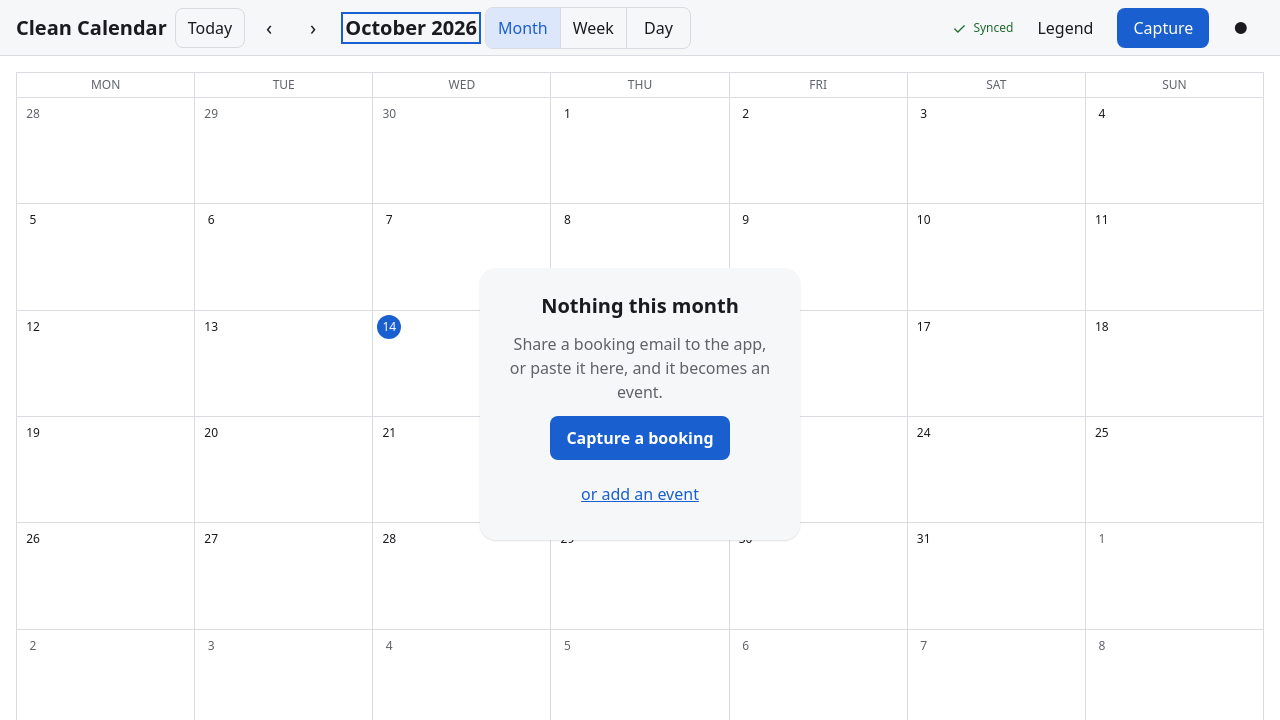
it: app shell top bar (AC-3) › closes the Account menu on Escape and returns focus to its button
Check: the heading "October 2026" is shown, box [345,16,477,40]
Click the button named "Account" at {"x": 1241, "y": 28}, box [1217,8,1264,48]
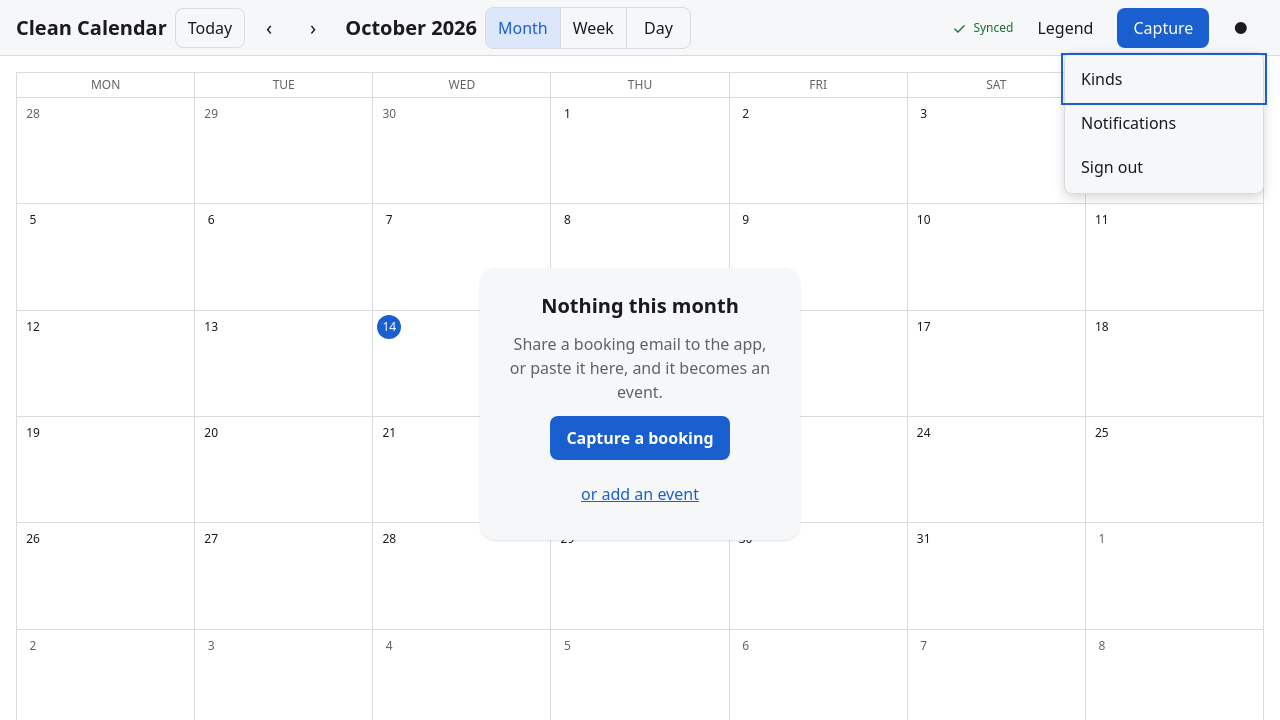
Press Escape
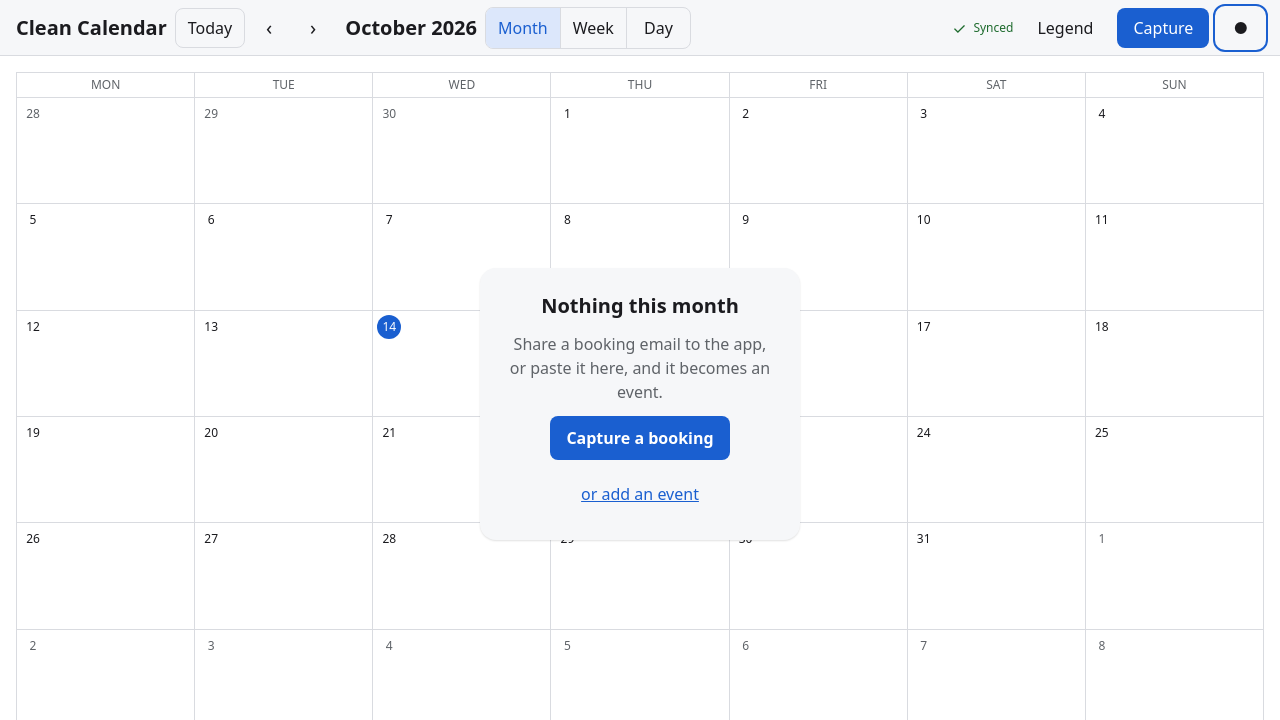
Check: the menu is gone
